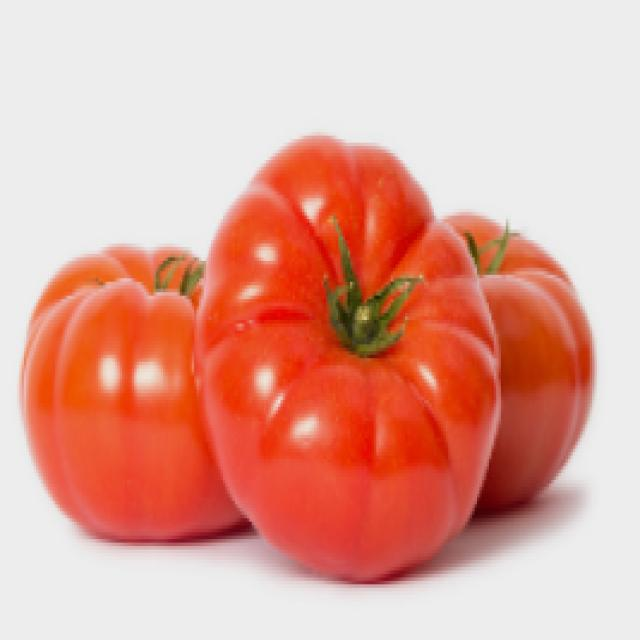Tomato: (206, 139, 514, 573)
